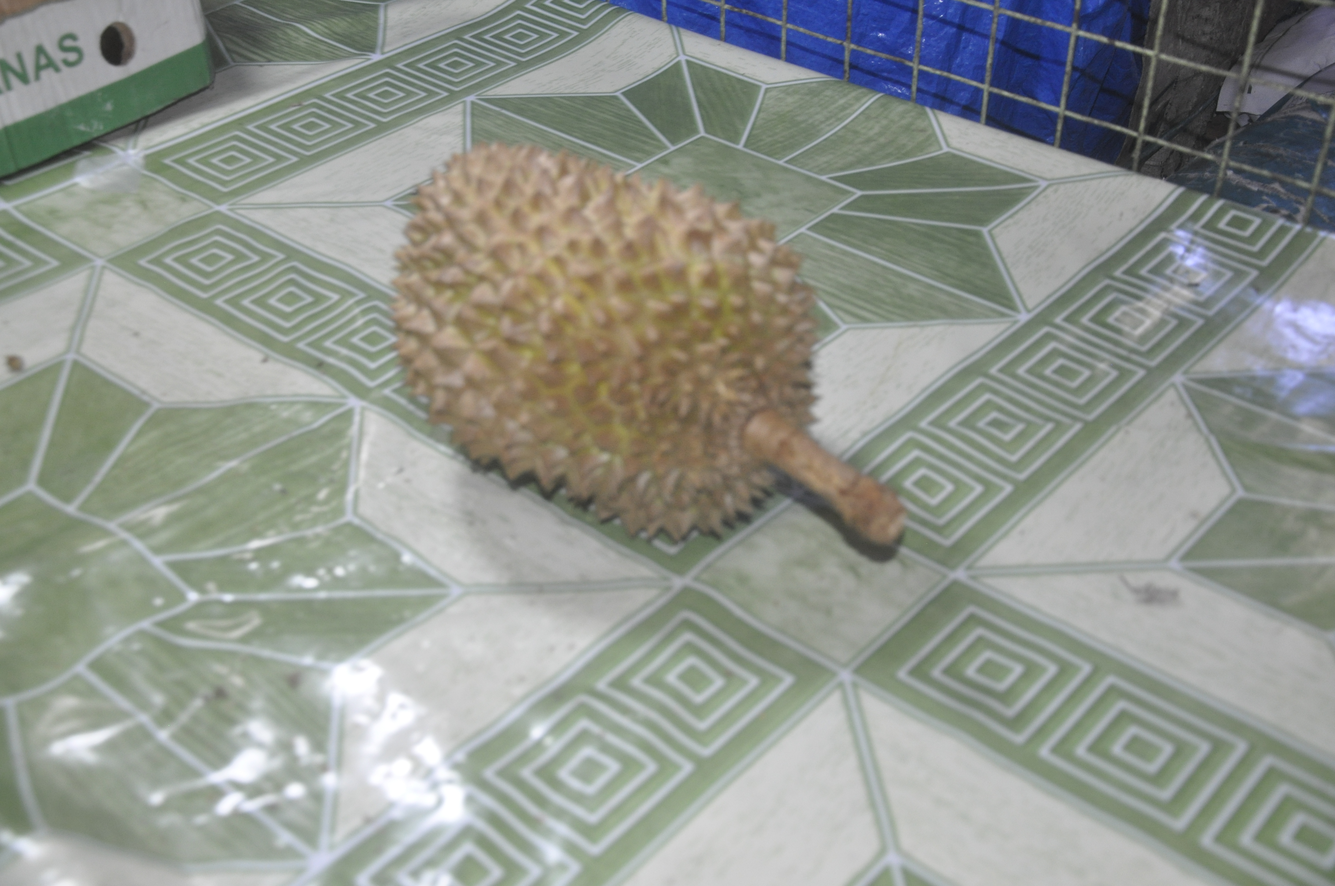mature: (393, 144, 905, 560)
